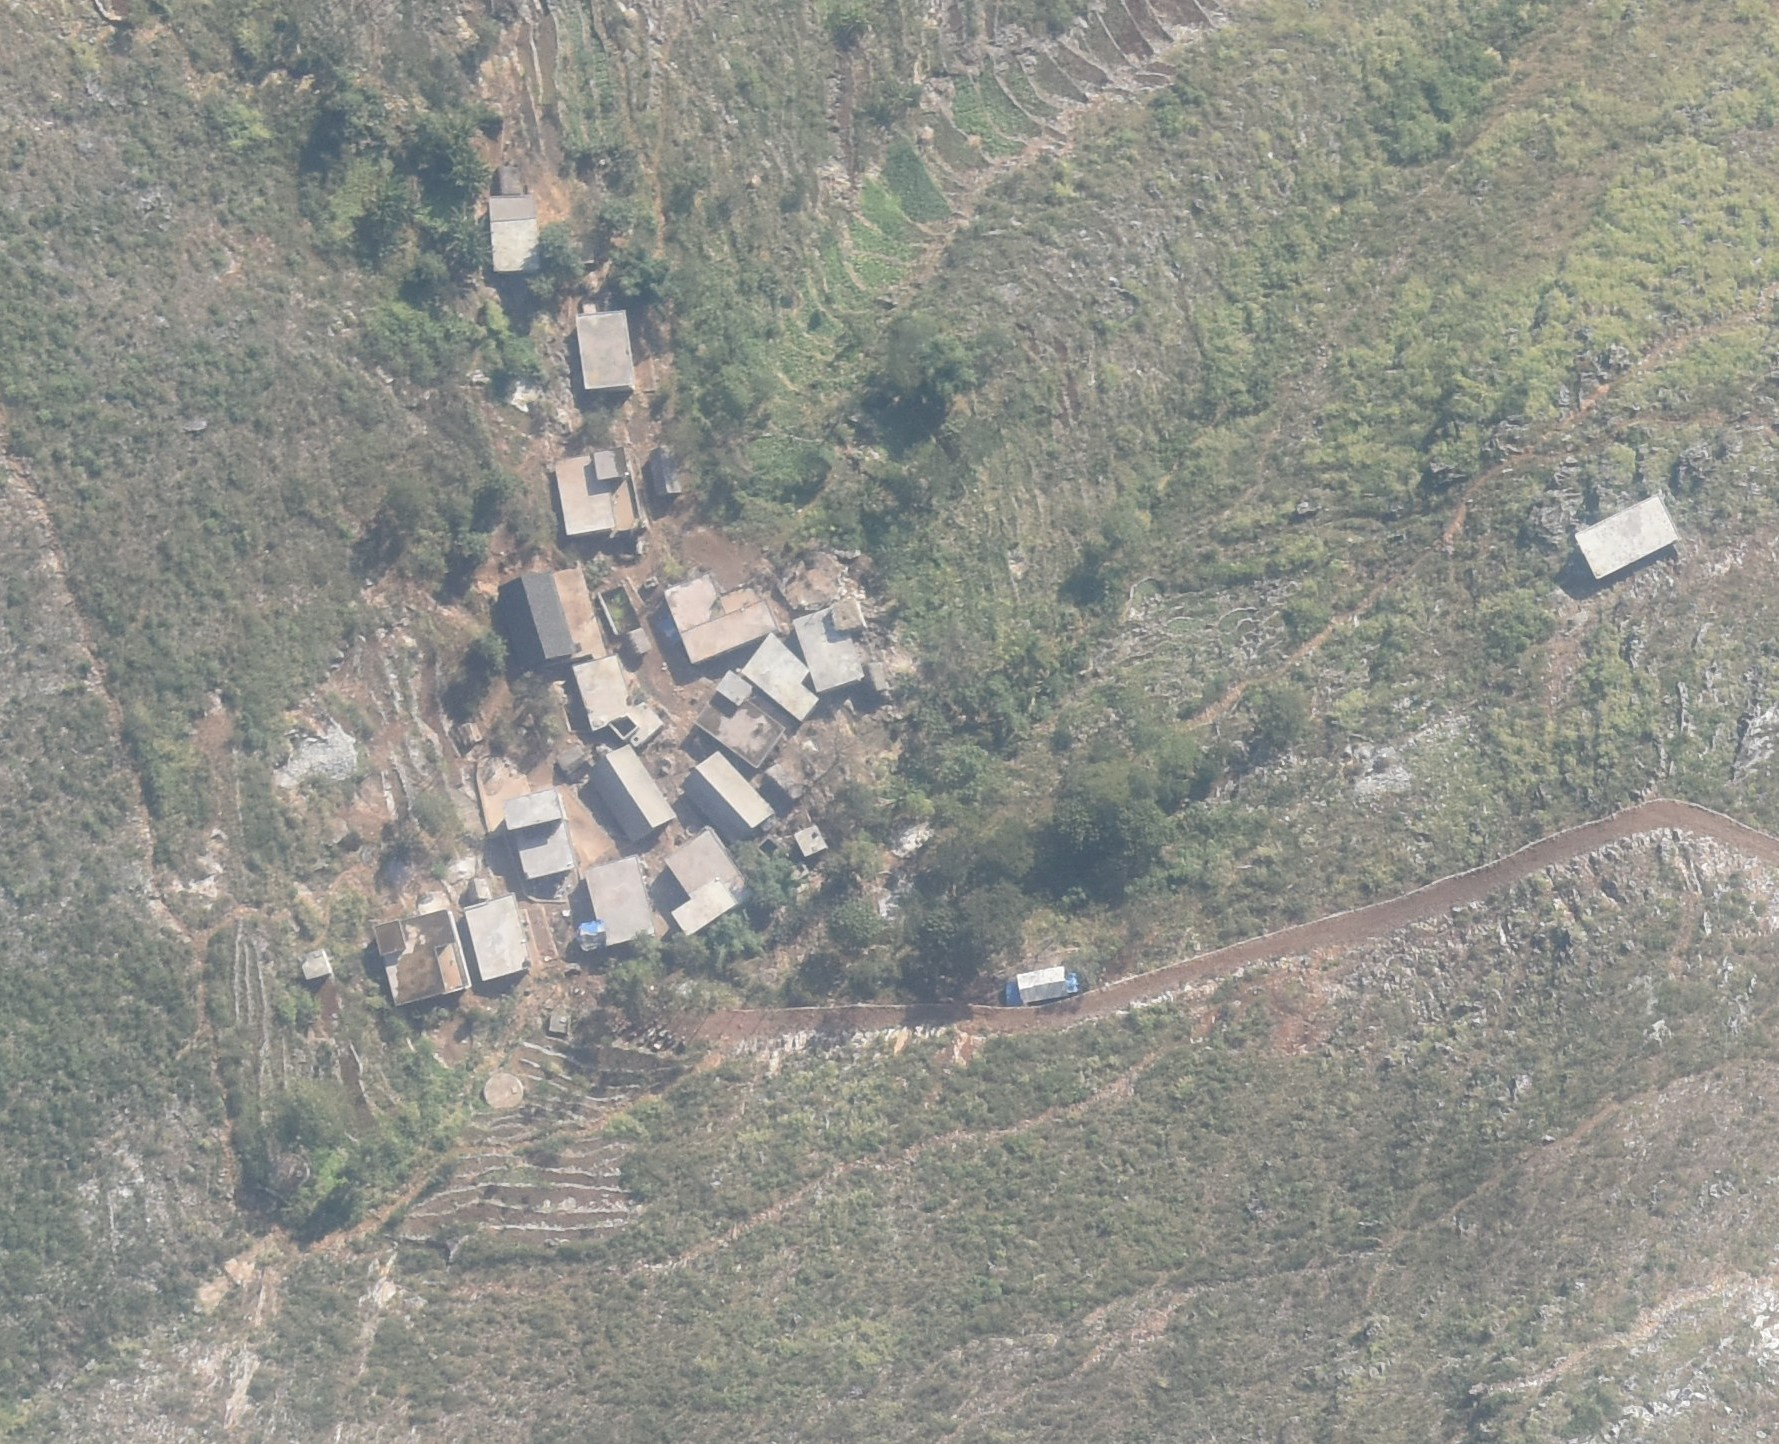building: (663, 572, 779, 663), (374, 910, 474, 1007), (1571, 493, 1679, 580), (666, 828, 753, 936), (693, 669, 786, 769), (572, 652, 660, 749), (590, 744, 676, 842), (554, 446, 644, 535), (464, 876, 531, 980), (743, 633, 818, 725), (496, 572, 571, 664), (792, 599, 865, 690), (502, 787, 574, 878), (585, 856, 655, 946), (693, 751, 772, 829), (575, 310, 635, 388), (489, 194, 540, 271), (1015, 963, 1065, 1005), (651, 446, 679, 495), (793, 824, 826, 858), (299, 947, 330, 981), (497, 164, 519, 196), (550, 1014, 567, 1033)
well: (482, 1073, 523, 1110)
